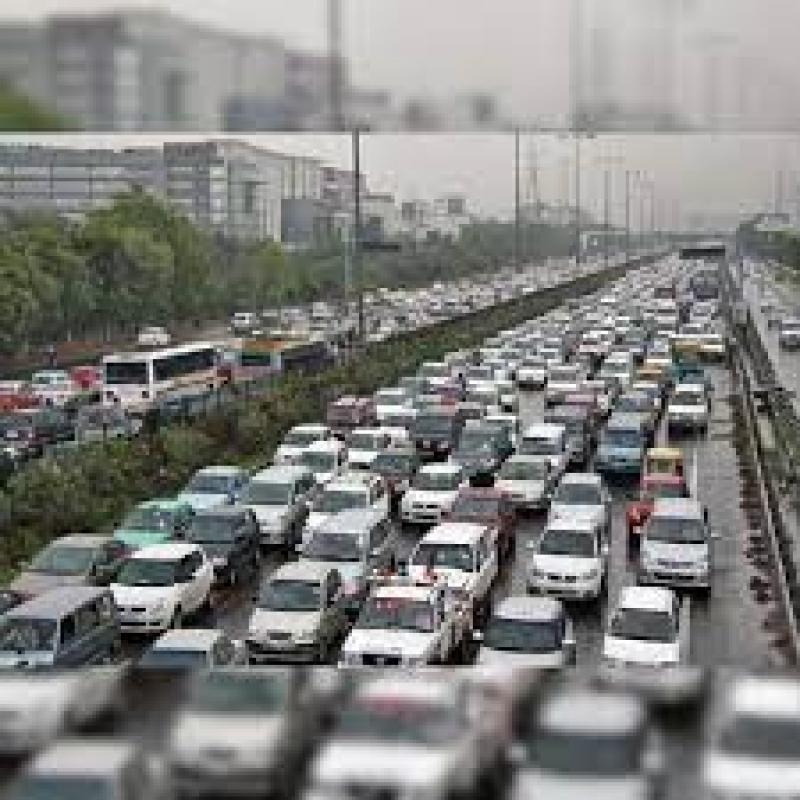car: (114, 532, 219, 651), (246, 552, 334, 679), (345, 576, 451, 676), (16, 589, 127, 682), (480, 592, 580, 684), (314, 512, 403, 591), (618, 592, 702, 675), (240, 459, 303, 555), (430, 514, 504, 594), (647, 500, 724, 571), (528, 532, 590, 613), (400, 464, 464, 528), (562, 468, 612, 538), (498, 457, 542, 513)
